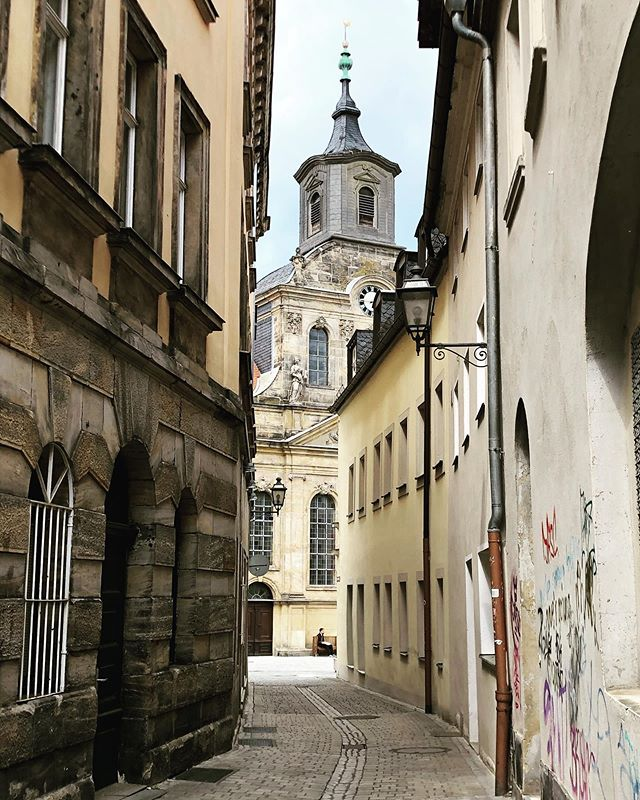building: (337, 1, 640, 785), (1, 1, 261, 769), (259, 74, 416, 410)
graffiti: (512, 499, 628, 783)
